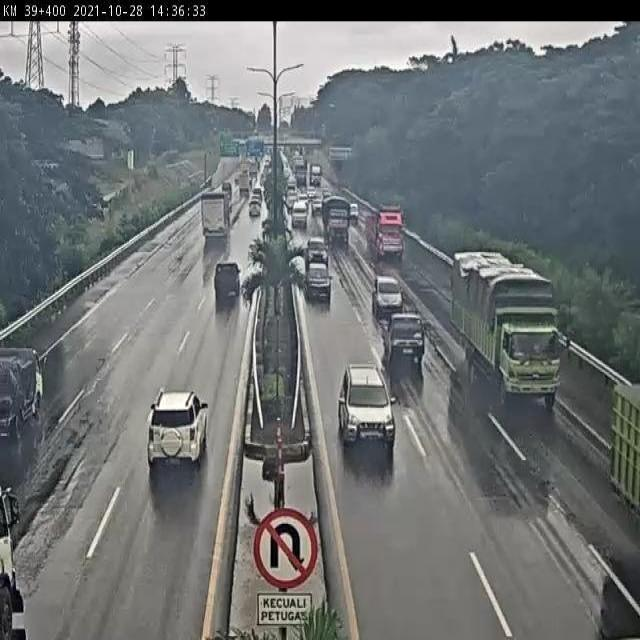Car: (337, 364, 395, 454), (146, 392, 209, 471), (381, 311, 427, 380), (372, 274, 404, 321), (213, 261, 242, 311), (304, 257, 333, 305), (305, 236, 328, 265), (291, 200, 308, 228), (248, 194, 262, 218), (311, 191, 323, 213), (349, 202, 359, 222), (286, 178, 296, 195), (306, 187, 316, 202)
Truck: (453, 253, 564, 408), (1, 348, 44, 467), (1, 487, 28, 636), (364, 206, 404, 259), (321, 196, 350, 244), (200, 190, 228, 237), (310, 163, 322, 187)
